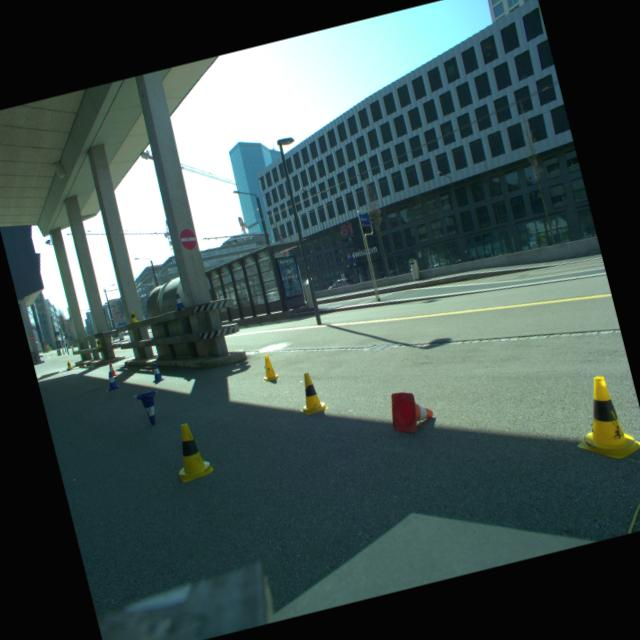blue_cone: (132, 388, 167, 428), (102, 370, 121, 391), (148, 361, 166, 382), (172, 292, 186, 310)
orange_cone: (384, 384, 436, 438), (108, 361, 118, 376)
yellow_cone: (561, 369, 640, 468), (167, 418, 215, 482), (292, 370, 329, 416), (258, 353, 280, 382), (128, 310, 138, 322), (94, 338, 102, 348), (65, 360, 73, 370)
